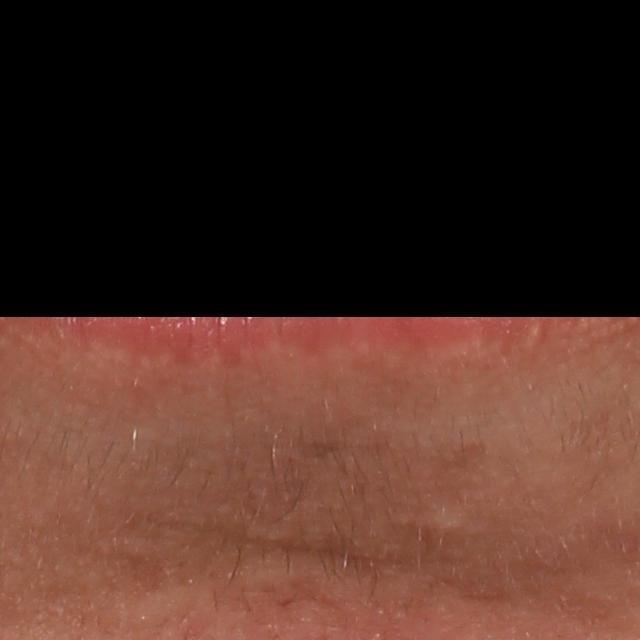hypertrophic_scar: (410, 494, 473, 535)
